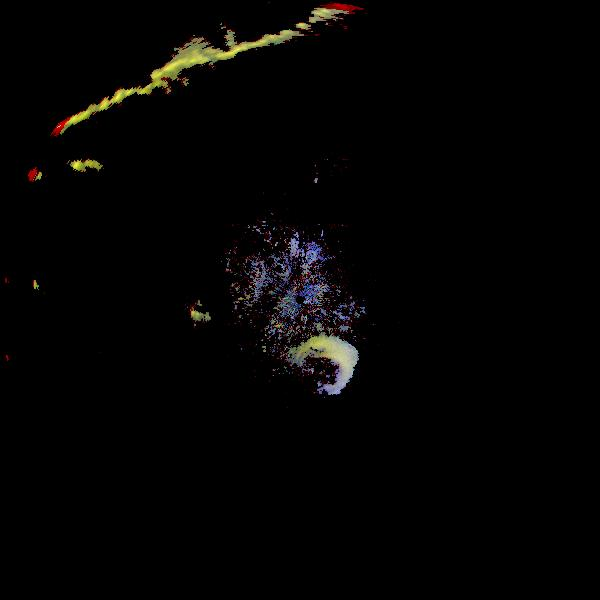roost: (253, 311, 376, 434), (229, 121, 337, 229)
